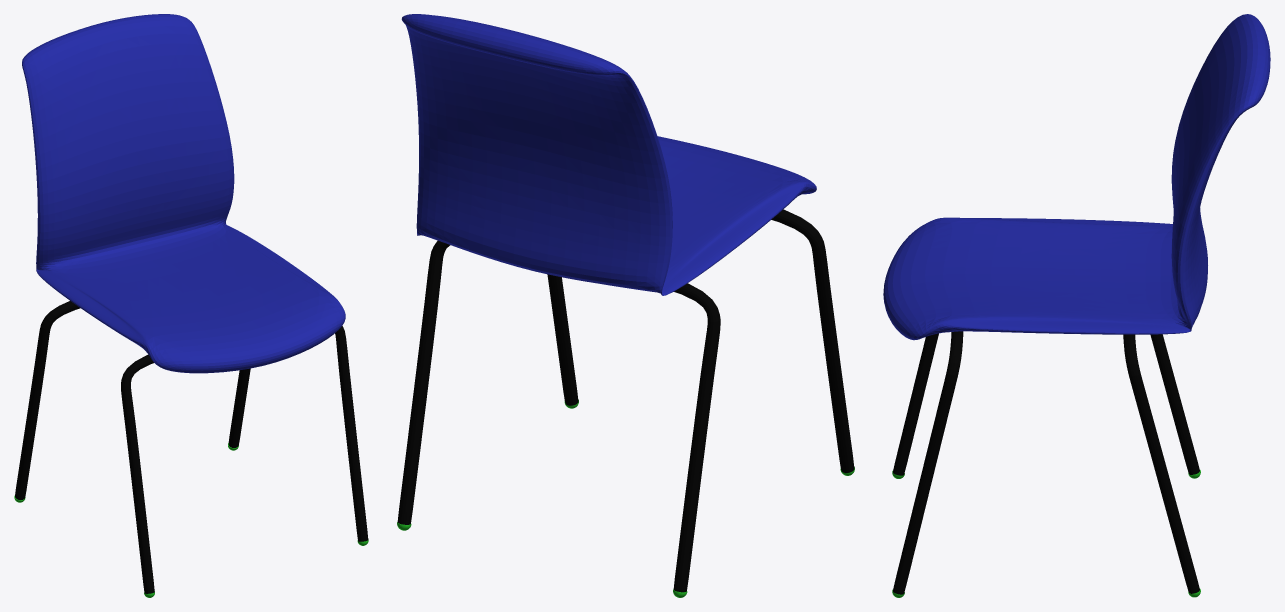
Rendered from plasticChair.obj.
The picture shows the model from 3 angles, left to right: view 1: azimuth 30°, elevation 25°; view 2: azimuth 150°, elevation 25°; view 3: azimuth 270°, elevation 25°; orthographic projection. The views are drawn at different scales.
Parts seen in each view (by area): view 1: Plane; view 2: Plane; view 3: Plane.
Boxes of the visible parts, <box> form: Plane: <box>14,14,368,597</box>; Plane: <box>397,14,854,597</box>; Plane: <box>883,14,1270,597</box>.
Size of the model in its own units: 44.43 by 82.01 by 58.4.
